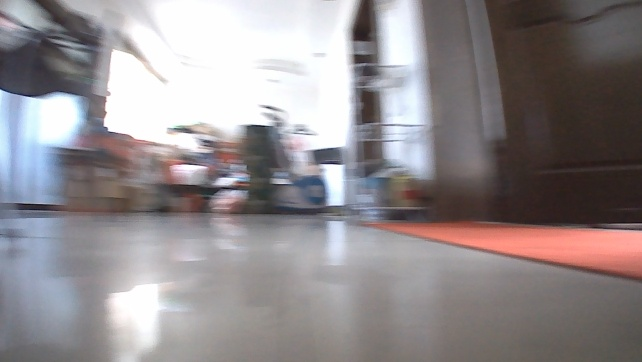blanket: (355, 218, 641, 284)
